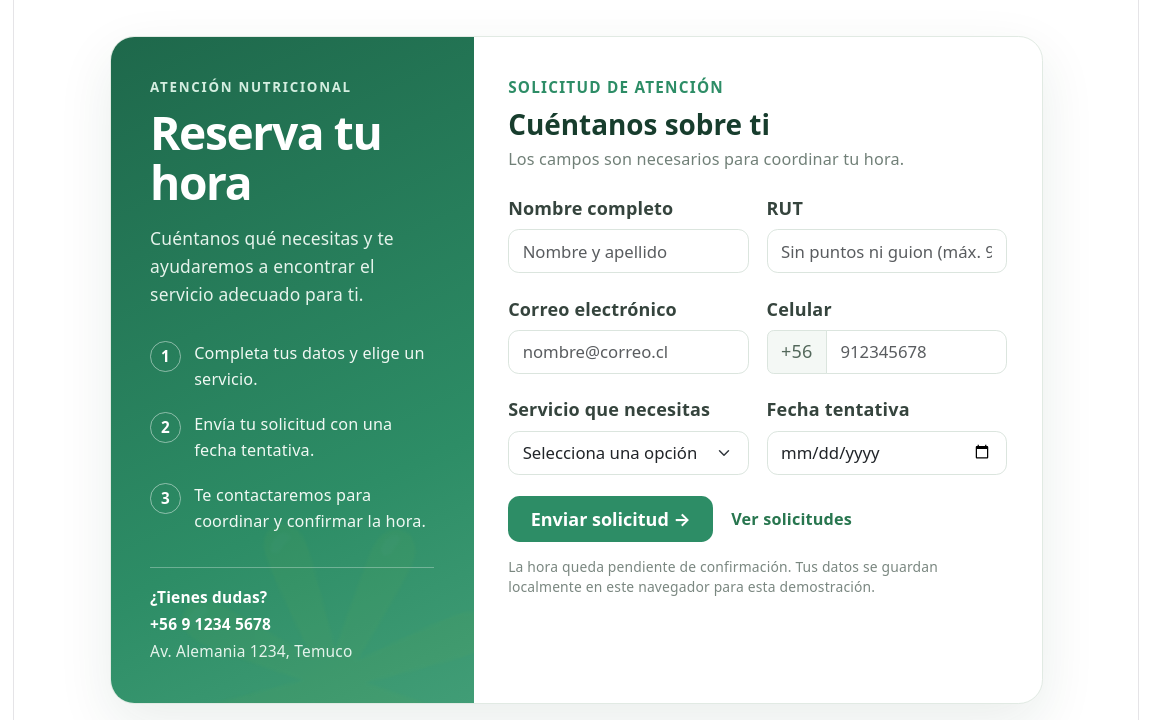
09 - RUT y celular se limitan a nueve caracteres y conservan su formato permitido
Type "12345678599" into the field labelled "RUT" at (887,251), box [766, 229, 1007, 273]
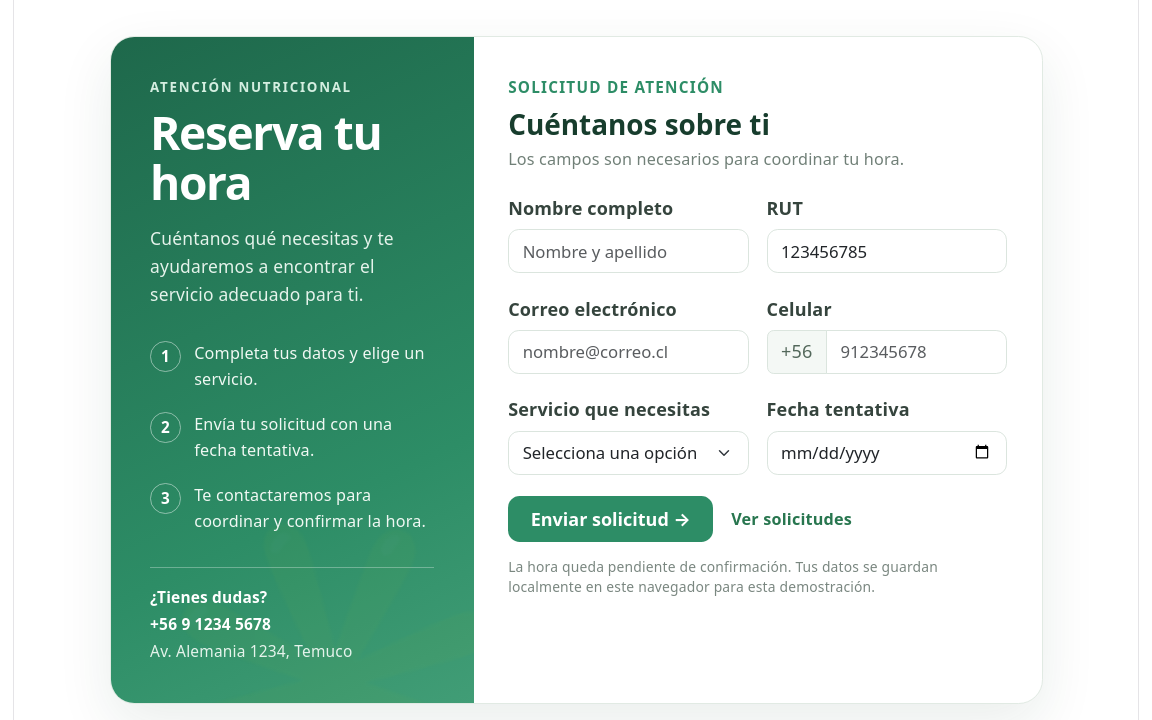
Check: the field labelled "RUT" holds "123456785"
Replace the text in the field labelled "RUT" with "12.345.678-k" at (887,251), box [766, 229, 1007, 273]
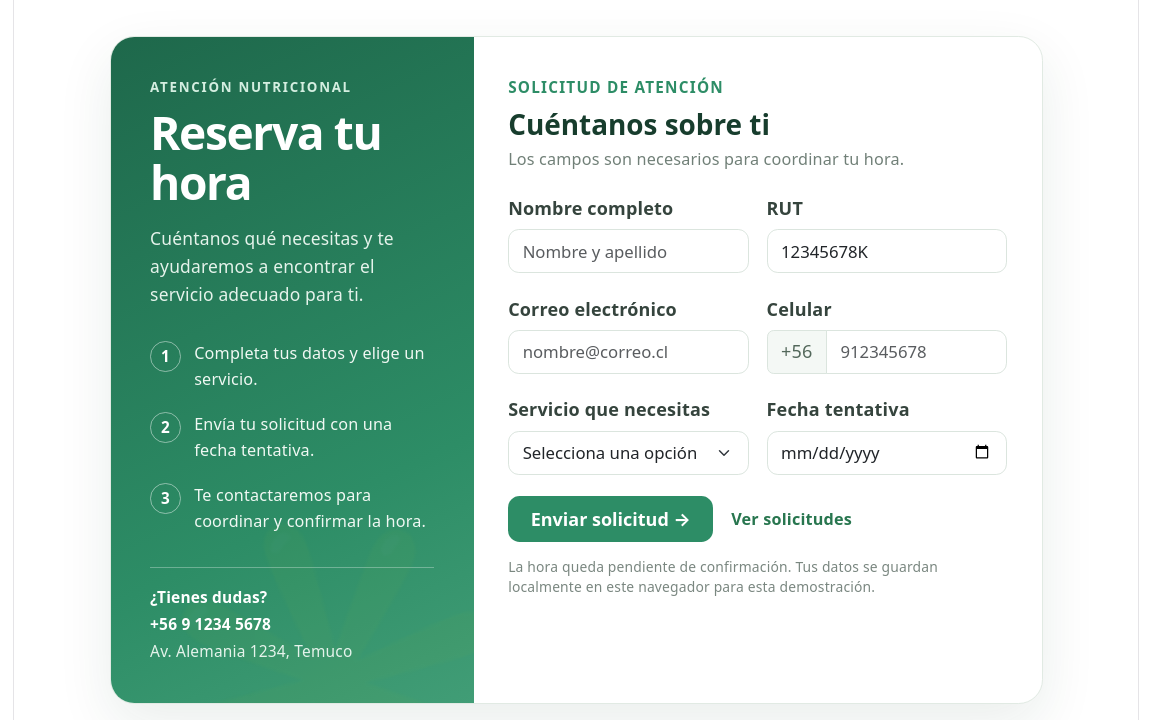
Check: the field labelled "RUT" holds "12345678K", box [766, 229, 1007, 273]
Type "9a12345678999" into the field labelled "Celular" at (916,352), box [826, 330, 1007, 374]
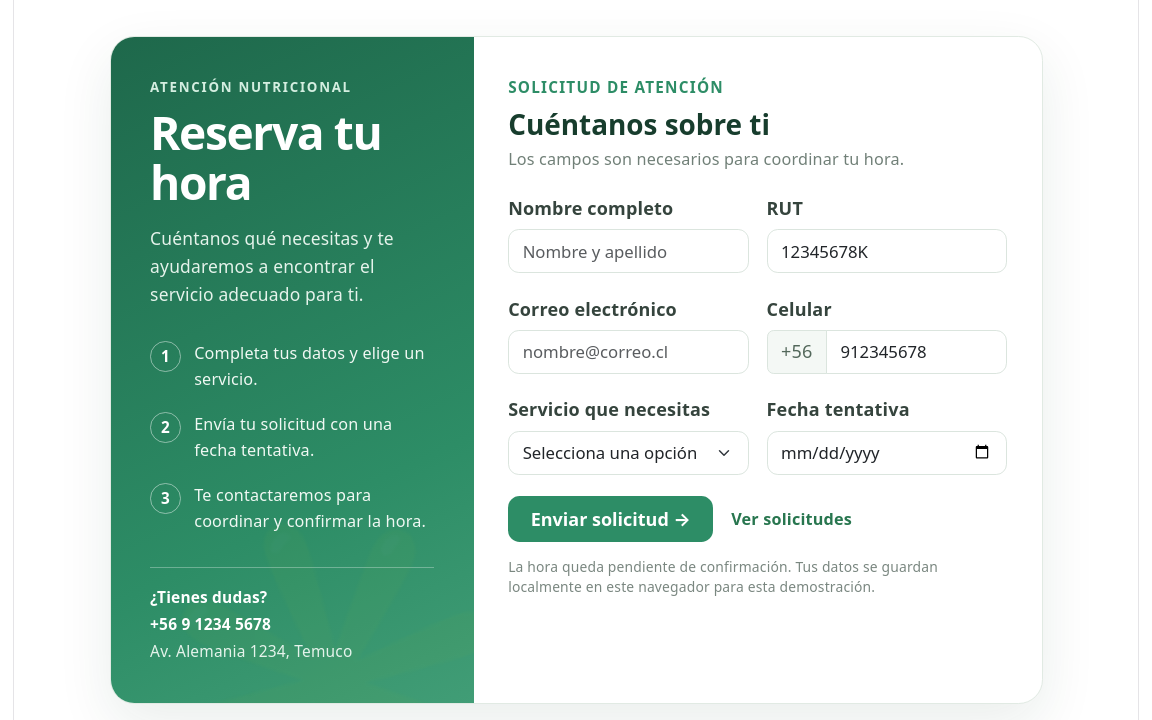
Check: the field labelled "Celular" holds "912345678", box [826, 330, 1007, 374]
